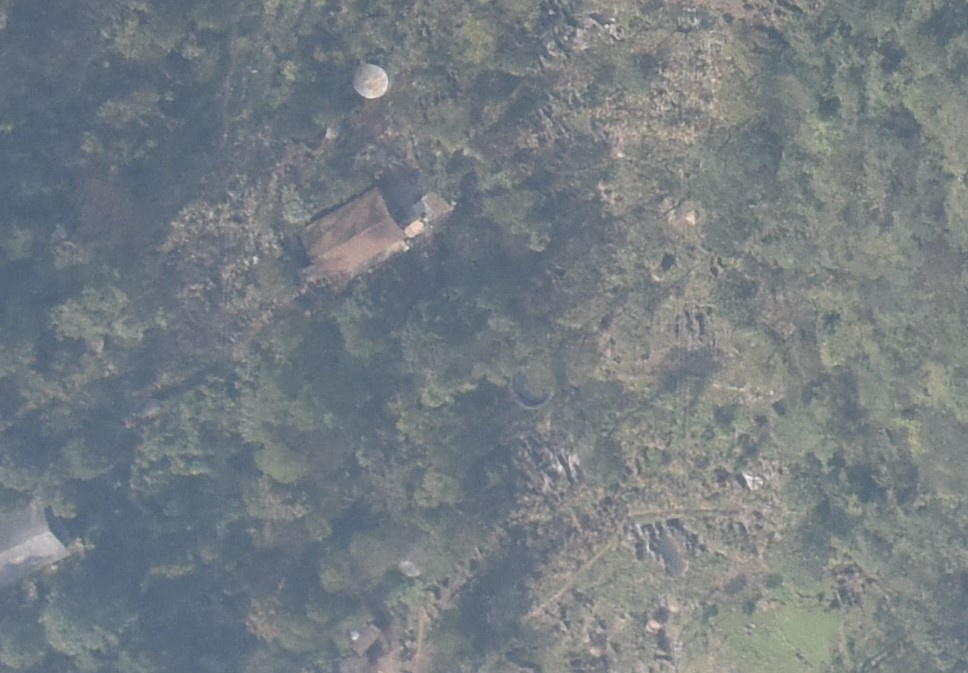building: (301, 185, 406, 283)
well: (351, 61, 389, 98)
